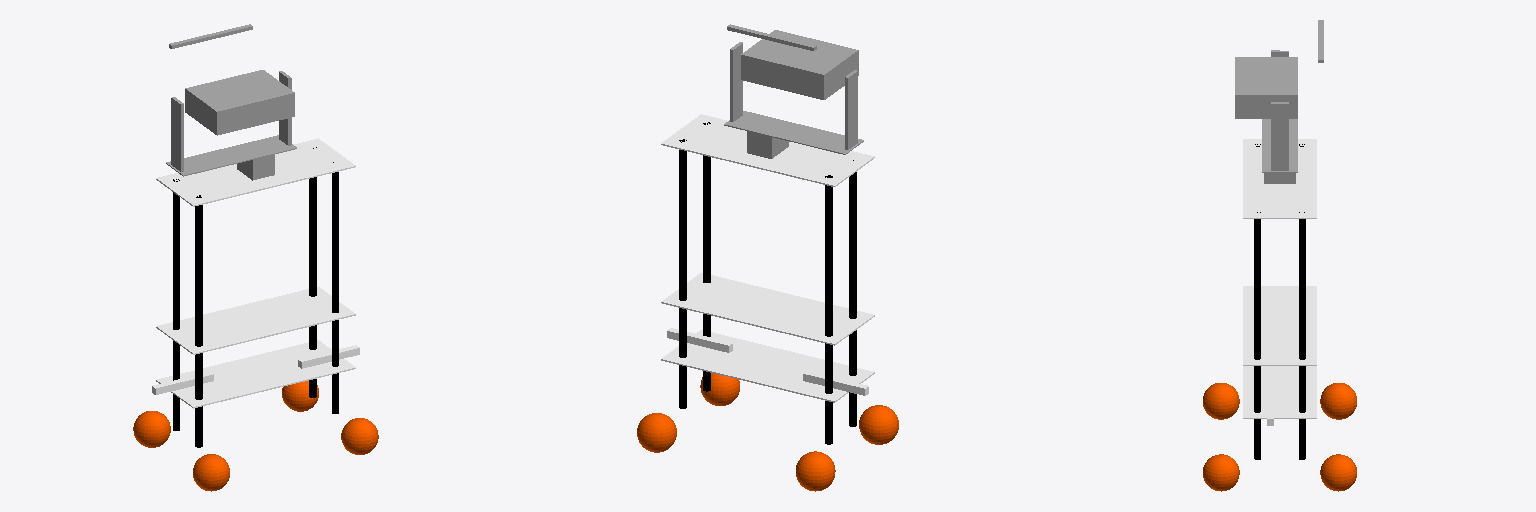
--- What the picture shows (computed from the rendered views, not written in the file) ---
3 views of the same robot in one strip: view 1: azimuth 30°, elevation 25°; view 2: azimuth 150°, elevation 25°; view 3: azimuth 270°, elevation 25° (orthographic).
Robot: ubiquitous_display — 30 links, 29 joints (2 revolute, 8 continuous, 19 fixed); root link base_footprint; default pose: every joint at zero.
Visible links, largest first — view 1: middle_plate_link, ud_pt_projector_link, bottom_plate_link, top_plate_link, top_pillars_link, ud_pt_plate_link, middle_pillars_link, wheel_link_br, wheel_link_bl, wheel_link_fr, bottom_pillars_link, right_pt_pillars (+4 smaller); view 2: middle_plate_link, bottom_plate_link, top_plate_link, ud_pt_projector_link, top_pillars_link, ud_pt_plate_link, middle_pillars_link, wheel_link_br, wheel_link_fl, wheel_link_bl, bottom_pillars_link, right_pt_pillars (+6 smaller); view 3: middle_plate_link, top_plate_link, ud_pt_projector_link, bottom_plate_link, top_pillars_link, left_pt_pillars, wheel_link_bl, wheel_link_br, wheel_link_fl, wheel_link_fr, ud_pt_plate_link, middle_pillars_link (+1 smaller).
Link boxes in pixels (<box>): middle_plate_link: <box>156,287,355,354</box>; ud_pt_projector_link: <box>185,70,294,135</box>; bottom_plate_link: <box>156,340,355,408</box>; top_plate_link: <box>156,138,355,206</box>; top_pillars_link: <box>173,147,338,346</box>; ud_pt_plate_link: <box>166,135,296,176</box>; middle_pillars_link: <box>173,320,338,399</box>; wheel_link_br: <box>193,454,229,491</box>; wheel_link_bl: <box>133,411,170,447</box>; wheel_link_fr: <box>341,418,378,454</box>; bottom_pillars_link: <box>173,373,338,447</box>; right_pt_pillars: <box>171,97,183,171</box>; middle_plate_link: <box>661,273,874,345</box>; bottom_plate_link: <box>661,330,874,402</box>; top_plate_link: <box>661,114,874,186</box>; ud_pt_projector_link: <box>741,30,858,99</box>; top_pillars_link: <box>679,122,856,336</box>; ud_pt_plate_link: <box>724,111,863,154</box>; middle_pillars_link: <box>679,308,856,393</box>; wheel_link_br: <box>859,405,898,444</box>; wheel_link_fl: <box>637,413,676,452</box>; wheel_link_bl: <box>796,451,835,491</box>; bottom_pillars_link: <box>679,365,856,444</box>; right_pt_pillars: <box>845,70,857,149</box>; middle_plate_link: <box>1243,286,1316,365</box>; top_plate_link: <box>1243,139,1316,218</box>; ud_pt_projector_link: <box>1235,57,1297,118</box>; bottom_plate_link: <box>1243,366,1316,418</box>; top_pillars_link: <box>1254,144,1305,359</box>; left_pt_pillars: <box>1271,102,1288,170</box>; wheel_link_bl: <box>1320,383,1356,419</box>; wheel_link_br: <box>1203,383,1239,419</box>; wheel_link_fl: <box>1320,454,1356,491</box>; wheel_link_fr: <box>1203,454,1239,491</box>; ud_pt_plate_link: <box>1262,119,1297,172</box>; middle_pillars_link: <box>1254,366,1305,412</box>.
Bounding box of the posed robot: 0.6 × 0.416 × 1.22 m (x, y, z).
Meshes: 3 distinct files referenced, 0 mesh visuals loaded (none loaded); not drawn: 4 (reference not matched to a file when rendering).

The robot description file, URDF, robot "ubiquitous_display":
<?xml version="1.0" ?>
<!-- =================================================================================== -->
<!-- |    This document was autogenerated by xacro from ubiquitous_display.urdf.xacro  | -->
<!-- |    EDITING THIS FILE BY HAND IS NOT RECOMMENDED                                 | -->
<!-- =================================================================================== -->
<robot name="ubiquitous_display" xmlns:controller="http://playerstage.sourceforge.net/gazebo/xmlschema/#controller" xmlns:interface="http://playerstage.sourceforge.net/gazebo/xmlschema/#interface" xmlns:sensor="http://playerstage.sourceforge.net/gazebo/xmlschema/#sensor" xmlns:xacro="http://www.ros.org/wiki/xacro">
  <!-- Definition of colors -->
  <material name="black">
    <color rgba="0 0 0 1"/>
  </material>
  <material name="white">
    <color rgba="1 1 1 1"/>
  </material>
  <link name="bottom_pillars_link">
    <visual>
      <geometry>
        <cylinder length="0.14" radius="0.01"/>
      </geometry>
      <origin xyz="0.21 0.06 0.07"/>
      <material name="black"/>
    </visual>
    <visual>
      <geometry>
        <cylinder length="0.14" radius="0.01"/>
      </geometry>
      <origin xyz="-0.21 0.06 0.07"/>
      <material name="black"/>
    </visual>
    <visual>
      <geometry>
        <cylinder length="0.14" radius="0.01"/>
      </geometry>
      <origin xyz="0.21 -0.06 0.07"/>
      <material name="black"/>
    </visual>
    <visual>
      <geometry>
        <cylinder length="0.14" radius="0.01"/>
      </geometry>
      <origin xyz="-0.21 -0.06 0.07"/>
      <material name="black"/>
    </visual>
  </link>
  <gazebo reference="bottom_pillars_link">
    <mu1>0.2</mu1>
    <mu2>0.2</mu2>
    <material>Gazebo/Black</material>
  </gazebo>
  <link name="bottom_plate_link">
    <visual>
      <geometry>
        <box size="0.5 0.2 0.004"/>
      </geometry>
      <origin xyz="0 0 -0.002"/>
      <material name="white"/>
    </visual>
  </link>
  <gazebo reference="bottom_plate_link">
    <mu1>0.2</mu1>
    <mu2>0.2</mu2>
    <material>Gazebo/Grey</material>
  </gazebo>
  <joint name="bottom_pillars_to_bottom_plate_joint" type="fixed">
    <parent link="bottom_pillars_link"/>
    <child link="bottom_plate_link"/>
    <origin xyz="0 0 0.14"/>
  </joint>
  <joint name="base_link_to_bottom_pillars_link" type="fixed">
    <origin rpy="0 0 0" xyz="0 0 0"/>
    <parent link="base_link"/>
    <child link="bottom_pillars_link"/>
  </joint>
  <link name="middle_pillars_link">
    <visual>
      <geometry>
        <cylinder length="0.157" radius="0.01"/>
      </geometry>
      <origin xyz="0.21 0.06 0.0785"/>
      <material name="black"/>
    </visual>
    <visual>
      <geometry>
        <cylinder length="0.157" radius="0.01"/>
      </geometry>
      <origin xyz="-0.21 0.06 0.0785"/>
      <material name="black"/>
    </visual>
    <visual>
      <geometry>
        <cylinder length="0.157" radius="0.01"/>
      </geometry>
      <origin xyz="0.21 -0.06 0.0785"/>
      <material name="black"/>
    </visual>
    <visual>
      <geometry>
        <cylinder length="0.157" radius="0.01"/>
      </geometry>
      <origin xyz="-0.21 -0.06 0.0785"/>
      <material name="black"/>
    </visual>
  </link>
  <gazebo reference="middle_pillars_link">
    <mu1>0.2</mu1>
    <mu2>0.2</mu2>
    <material>Gazebo/Black</material>
  </gazebo>
  <link name="middle_plate_link">
    <visual>
      <geometry>
        <box size="0.5 0.2 0.004"/>
      </geometry>
      <origin xyz="0 0 -0.002"/>
      <material name="white"/>
    </visual>
  </link>
  <gazebo reference="middle_plate_link">
    <mu1>0.2</mu1>
    <mu2>0.2</mu2>
    <material>Gazebo/Grey</material>
  </gazebo>
  <joint name="middle_pillars_to_middle_plate_joint" type="fixed">
    <parent link="middle_pillars_link"/>
    <child link="middle_plate_link"/>
    <origin xyz="0 0 0.157"/>
  </joint>
  <joint name="bottom_plate_to_middle_pillars_joint" type="fixed">
    <parent link="bottom_plate_link"/>
    <child link="middle_pillars_link"/>
  </joint>
  <link name="top_pillars_link">
    <visual>
      <geometry>
        <cylinder length="0.435" radius="0.01"/>
      </geometry>
      <origin xyz="0.21 0.06 0.2175"/>
      <material name="black"/>
    </visual>
    <visual>
      <geometry>
        <cylinder length="0.435" radius="0.01"/>
      </geometry>
      <origin xyz="-0.21 0.06 0.2175"/>
      <material name="black"/>
    </visual>
    <visual>
      <geometry>
        <cylinder length="0.435" radius="0.01"/>
      </geometry>
      <origin xyz="0.21 -0.06 0.2175"/>
      <material name="black"/>
    </visual>
    <visual>
      <geometry>
        <cylinder length="0.435" radius="0.01"/>
      </geometry>
      <origin xyz="-0.21 -0.06 0.2175"/>
      <material name="black"/>
    </visual>
  </link>
  <gazebo reference="top_pillars_link">
    <mu1>0.2</mu1>
    <mu2>0.2</mu2>
    <material>Gazebo/Black</material>
  </gazebo>
  <link name="top_plate_link">
    <visual>
      <geometry>
        <box size="0.5 0.2 0.004"/>
      </geometry>
      <origin xyz="0 0 -0.002"/>
      <material name="white"/>
    </visual>
  </link>
  <gazebo reference="top_plate_link">
    <mu1>0.2</mu1>
    <mu2>0.2</mu2>
    <material>Gazebo/Grey</material>
  </gazebo>
  <joint name="top_pillars_to_top_plate_joint" type="fixed">
    <parent link="top_pillars_link"/>
    <child link="top_plate_link"/>
    <origin xyz="0 0 0.435"/>
  </joint>
  <joint name="middle_plate_to_top_pillars_joint" type="fixed">
    <parent link="middle_plate_link"/>
    <child link="top_pillars_link"/>
  </joint>
  <link name="front_laser_adjuster_link">
    <visual>
      <geometry>
        <box size="0.18 0.02 0.02"/>
      </geometry>
      <origin xyz="-0.09 -0.025 0.01"/>
      <material name="white"/>
    </visual>
  </link>
  <gazebo reference="front_laser_adjuster_link">
    <mu1>0.2</mu1>
    <mu2>0.2</mu2>
    <material>Gazebo/White</material>
  </gazebo>
  <joint name="front_laser_adjuster_joint" type="fixed">
    <origin rpy="0 0 0" xyz="0.3 0 0"/>
    <parent link="bottom_plate_link"/>
    <child link="front_laser_adjuster_link"/>
  </joint>
  <link name="rear_laser_adjuster_link">
    <visual>
      <geometry>
        <box size="0.18 0.02 0.02"/>
      </geometry>
      <origin xyz="-0.09 -0.025 0.01"/>
      <material name="white"/>
    </visual>
  </link>
  <gazebo reference="rear_laser_adjuster_link">
    <mu1>0.2</mu1>
    <mu2>0.2</mu2>
    <material>Gazebo/White</material>
  </gazebo>
  <joint name="rear_laser_adjuster_joint" type="fixed">
    <origin rpy="0 0 3.1415" xyz="-0.3 0 0"/>
    <parent link="bottom_plate_link"/>
    <child link="rear_laser_adjuster_link"/>
  </joint>
  <transmission name="trans1">
    <type>transmission_interface/SimpleTransmission</type>
    <joint name="pan_joint">
      <hardwareInterface>hardware_interface/EffortJointInterface</hardwareInterface>
    </joint>
    <actuator name="motor1">
      <hardwareInterface>hardware_interface/EffortJointInterface</hardwareInterface>
      <mechanicalReduction>1</mechanicalReduction>
    </actuator>
  </transmission>
  <transmission name="tran2">
    <type>transmission_interface/SimpleTransmission</type>
    <joint name="tilt_joint">
      <hardwareInterface>hardware_interface/EffortJointInterface</hardwareInterface>
    </joint>
    <actuator name="motor2">
      <hardwareInterface>hardware_interface/EffortJointInterface</hardwareInterface>
      <mechanicalReduction>1</mechanicalReduction>
    </actuator>
  </transmission>
  <gazebo reference="ud_pt_box_link">
    <material>Gazebo/Grey</material>
  </gazebo>
  <gazebo reference="ud_pt_plate_link">
    <mu1>0.2</mu1>
    <mu2>0.2</mu2>
    <material>Gazebo/Grey</material>
  </gazebo>
  <gazebo reference="ud_pt_projector_link">
    <mu1>0.2</mu1>
    <mu2>0.2</mu2>
    <material>Gazebo/Grey</material>
  </gazebo>
  <gazebo reference="left_pt_pillars">
    <mu1>0.2</mu1>
    <mu2>0.2</mu2>
    <material>Gazebo/Grey</material>
  </gazebo>
  <gazebo reference="right_pt_pillars">
    <mu1>0.2</mu1>
    <mu2>0.2</mu2>
    <material>Gazebo/Grey</material>
  </gazebo>
  <material name="red">
    <color rgba="0.7 0.0 0.7 1.0"/>
  </material>
  <material name="blue">
    <color rgba="0.0 0.7 0.7 1.0"/>
  </material>
  <material name="green">
    <color rgba="0.0 0.7 0.7 1.0"/>
  </material>
  <material name="gray">
    <color rgba="0.7 0.7 0.7 1.0"/>
  </material>
  <!--xacro:property name="" value="0.360" /-->
  <material name="Orange">
    <color rgba="1.0 0.4 0.0 1.0"/>
  </material>
  <material name="Grey">
    <color rgba="0.7 0.7 0.7 1.0"/>
  </material>
  <material name="DarkGrey">
    <color rgba="0.3 0.3 0.3 1.0"/>
  </material>
  <material name="White">
    <color rgba="1.0 1.0 1.0 1.0"/>
  </material>
  <material name="Black">
    <color rgba="0.0 0.0 0.0 1.0"/>
  </material>
  <material name="Red">
    <color rgba="1.0 0.0 0.0 1.0"/>
  </material>
  <material name="Green">
    <color rgba="0.0 1.0 0.0 1.0"/>
  </material>
  <material name="Blue">
    <color rgba="0.0 0.0 0.8 1.0"/>
  </material>
  <material name="LightGrey">
    <color rgba="0.82 0.82 0.82 1.0"/>
  </material>
  <!-- controller manager -->
  <!--<xacro:include filename="$(find ubiquitous_display_description)/urdf/youbot/ros_controller.urdf.xacro" />-->
  <!-- Now we can start using the macros xacro:included above to define the actual youbot -->
  <!-- The first use of a macro.  This one was defined in base.urdf.xacro above.
       A macro like this will expand to a set of link and joint definitions, and to additional
       Gazebo-related extensions (sensor plugins, etc).  The macro takes an argument, name,
       that equals "base", and uses it to generate names for its component links and joints
       (e.g., base_link).  The xacro:included origin block is also an argument to the macro.  By convention,
       the origin block defines where the component is w.r.t its parent (in this case the parent
       is the world frame). For more, see http://www.ros.org/wiki/xacro -->
  <link name="base_footprint">
    <inertial>
      <mass value="0.1"/>
      <origin rpy="0 0 0" xyz="0 0 -0.05"/>
      <inertia ixx="1.0" ixy="0.0" ixz="0.0" iyy="1.0" iyz="0.0" izz="1.0"/>
    </inertial>
    <visual>
      <origin rpy="0 0 0" xyz="0 0 0"/>
      <geometry>
        <box size="0.001 0.001 0.001"/>
      </geometry>
      <material name="Red"/>
    </visual>
    <collision>
      <origin rpy="0 0 0" xyz="0 0 -0.05"/>
      <geometry>
        <box size="0.001 0.001 0.001"/>
      </geometry>
    </collision>
  </link>
  <joint name="base_footprint_joint" type="fixed">
    <origin rpy="0 0 0" xyz="0 0 0.08"/>
    <child link="base_link"/>
    <parent link="base_footprint"/>
  </joint>
  <link name="base_link">
    <inertial>
      <mass value="22.0"/>
      <origin xyz="0 0 0"/>
      <inertia ixx="5.652232699207" ixy="-0.009719934438" ixz="1.293988226423" iyy="5.669473158652" iyz="-0.007379583694" izz="3.683196351726"/>
    </inertial>
    <visual>
      <origin rpy="0 0 0" xyz="0 0 0"/>
      <geometry>
        <mesh filename="package://ubiquitous_display_description/meshes/DAE/base.dae"/>
      </geometry>
      <material name="DarkGrey"/>
    </visual>
    <collision>
      <origin rpy="0 0 0" xyz="0 0 0"/>
      <geometry>
        <!--<box size="${base_size_x} ${base_size_y} ${base_size_z}" />-->
        <mesh filename="package://ubiquitous_display_description/meshes/DAE/base_convex.dae"/>
      </geometry>
    </collision>
  </link>
  <!-- front left wheel -->
  <joint name="caster_joint_fl" type="continuous">
    <origin rpy="0 0 0" xyz="0.228 0.158 -0.034"/>
    <axis xyz="0 0 1"/>
    <limit effort="30" velocity="10"/>
    <dynamics damping="1.0" friction="1.0"/>
    <safety_controller k_velocity="10.0"/>
    <parent link="base_link"/>
    <child link="caster_link_fl"/>
  </joint>
  <link name="caster_link_fl">
    <inertial>
      <mass value="0.1"/>
      <origin xyz="0 0 0"/>
      <inertia ixx="0.012411765597" ixy="-0.000711733678" ixz="0.00050272983" iyy="0.015218160428" iyz="-0.000004273467" izz="0.011763977943"/>
    </inertial>
  </link>
  <joint name="wheel_joint_fl" type="continuous">
    <axis xyz="0 1 0"/>
    <limit effort="30" velocity="10"/>
    <origin rpy="0 0 0" xyz="0.0 0.0 0.0"/>
    <parent link="caster_link_fl"/>
    <dynamics damping="1.0" friction="1.0"/>
    <safety_controller k_velocity="10.0"/>
    <child link="wheel_link_fl"/>
  </joint>
  <link name="wheel_link_fl">
    <inertial>
      <mass value="0.4"/>
      <origin xyz="0 0 0"/>
      <inertia ixx="0.012411765597" ixy="-0.000711733678" ixz="0.00050272983" iyy="0.015218160428" iyz="-0.000004273467" izz="0.011763977943"/>
    </inertial>
    <visual>
      <origin rpy="0 0 0" xyz="0 0 0"/>
      <!--<mesh filename="package://youbot_description/meshes/youbot_base/youbot_wheel.stl" />-->
      <geometry>
        <sphere radius="0.05"/>
      </geometry>
      <material name="Orange"/>
    </visual>
    <collision>
      <origin rpy="1.57079632679 0 0" xyz="0 0 0"/>
      <geometry>
        <cylinder length="0.05" radius="0.05"/>
      </geometry>
    </collision>
  </link>
  <!-- front right wheel -->
  <joint name="caster_joint_fr" type="continuous">
    <origin rpy="0 0 0" xyz="0.228 -0.158 -0.034"/>
    <axis xyz="0 0 1"/>
    <limit effort="30" velocity="10"/>
    <dynamics damping="1.0" friction="1.0"/>
    <safety_controller k_velocity="10.0"/>
    <parent link="base_link"/>
    <child link="caster_link_fr"/>
  </joint>
  <link name="caster_link_fr">
    <inertial>
      <mass value="0.1"/>
      <origin xyz="0 0 0"/>
      <inertia ixx="0.012411765597" ixy="-0.000711733678" ixz="0.00050272983" iyy="0.015218160428" iyz="-0.000004273467" izz="0.011763977943"/>
    </inertial>
  </link>
  <joint name="wheel_joint_fr" type="continuous">
    <axis xyz="0 1 0"/>
    <limit effort="30" velocity="10"/>
    <dynamics damping="1.0" friction="1.0"/>
    <safety_controller k_velocity="10.0"/>
    <origin rpy="0 0 0" xyz="0.0 0.0 0.0"/>
    <parent link="caster_link_fr"/>
    <child link="wheel_link_fr"/>
  </joint>
  <link name="wheel_link_fr">
    <inertial>
      <mass value="0.4"/>
      <origin xyz="0 0 0"/>
      <inertia ixx="0.012411765597" ixy="-0.000711733678" ixz="0.00050272983" iyy="0.015218160428" iyz="-0.000004273467" izz="0.011763977943"/>
    </inertial>
    <visual>
      <origin rpy="0 0 0" xyz="0 0 0"/>
      <geometry>
        <!--<mesh filename="package://youbot_description/meshes/youbot_base/youbot_wheel.stl" />-->
        <sphere radius="0.05"/>
      </geometry>
      <material name="Orange"/>
    </visual>
    <collision>
      <origin rpy="1.57079632679 0 0" xyz="0 0 0"/>
      <geometry>
        <cylinder length="0.05" radius="0.05"/>
      </geometry>
    </collision>
  </link>
  <!-- back left wheel -->
  <joint name="caster_joint_bl" type="continuous">
    <origin rpy="0 0 0" xyz="-0.228 0.158 -0.034"/>
    <axis xyz="0 0 1"/>
    <limit effort="30" velocity="10"/>
    <dynamics damping="1.0" friction="1.0"/>
    <safety_controller k_velocity="10.0"/>
    <parent link="base_link"/>
    <child link="caster_link_bl"/>
  </joint>
  <link name="caster_link_bl">
    <inertial>
      <mass value="0.1"/>
      <origin xyz="0 0 0"/>
      <inertia ixx="0.012411765597" ixy="-0.000711733678" ixz="0.00050272983" iyy="0.015218160428" iyz="-0.000004273467" izz="0.011763977943"/>
    </inertial>
  </link>
  <joint name="wheel_joint_bl" type="continuous">
    <axis xyz="0 1 0"/>
    <limit effort="10" velocity="10"/>
    <limit effort="30" velocity="10"/>
    <dynamics damping="1.0" friction="1.0"/>
    <safety_controller k_velocity="10.0"/>
    <origin rpy="0 0 0" xyz="0.0 0.0 0.0"/>
    <parent link="caster_link_bl"/>
    <child link="wheel_link_bl"/>
  </joint>
  <link name="wheel_link_bl">
    <inertial>
      <mass value="0.4"/>
      <origin xyz="0 0 0"/>
      <inertia ixx="0.012411765597" ixy="-0.000711733678" ixz="0.00050272983" iyy="0.015218160428" iyz="-0.000004273467" izz="0.011763977943"/>
    </inertial>
    <visual>
      <origin rpy="0 0 0" xyz="0 0 0"/>
      <geometry>
        <!--<mesh filename="package://youbot_description/meshes/youbot_base/youbot_wheel.stl" />-->
        <sphere radius="0.05"/>
      </geometry>
      <material name="Orange"/>
    </visual>
    <collision>
      <origin rpy="1.57079632679 0 0" xyz="0 0 0"/>
      <geometry>
        <cylinder length="0.05" radius="0.05"/>
      </geometry>
    </collision>
  </link>
  <!-- back right wheel -->
  <joint name="caster_joint_br" type="continuous">
    <origin rpy="0 0 0" xyz="-0.228 -0.158 -0.034"/>
    <axis xyz="0 0 1"/>
    <limit effort="30" velocity="10"/>
    <dynamics damping="1.0" friction="1.0"/>
    <safety_controller k_velocity="10.0"/>
    <parent link="base_link"/>
    <child link="caster_link_br"/>
  </joint>
  <link name="caster_link_br">
    <inertial>
      <mass value="0.1"/>
      <origin xyz="0 0 0"/>
      <inertia ixx="0.012411765597" ixy="-0.000711733678" ixz="0.00050272983" iyy="0.015218160428" iyz="-0.000004273467" izz="0.011763977943"/>
    </inertial>
  </link>
  <joint name="wheel_joint_br" type="continuous">
    <axis xyz="0 1 0"/>
    <limit effort="30" velocity="10"/>
    <dynamics damping="1.0" friction="1.0"/>
    <safety_controller k_velocity="10.0"/>
    <origin rpy="0 0 0" xyz="0.0 0.0 0.0"/>
    <parent link="caster_link_br"/>
    <child link="wheel_link_br"/>
  </joint>
  <link name="wheel_link_br">
    <inertial>
      <mass value="0.4"/>
      <origin xyz="0 0 0"/>
      <inertia ixx="0.012411765597" ixy="-0.000711733678" ixz="0.00050272983" iyy="0.015218160428" iyz="-0.000004273467" izz="0.011763977943"/>
    </inertial>
    <visual>
      <origin rpy="0 0 0" xyz="0 0 0"/>
      <geometry>
        <!--<mesh filename="package://youbot_description/meshes/youbot_base/youbot_wheel.stl" />-->
        <sphere radius="0.05"/>
      </geometry>
      <material name="Orange"/>
    </visual>
    <collision>
      <origin rpy="1.57079632679 0 0" xyz="0 0 0"/>
      <geometry>
        <cylinder length="0.05" radius="0.05"/>
      </geometry>
    </collision>
  </link>
  <gazebo reference="youbot_base">
    <material>Gazebo/DarkGrey</material>
  </gazebo>
  <!-- front left wheel -->
  <gazebo reference="wheel_link_fl">
    <material>Gazebo/Orange</material>
    <kp>1000000</kp>
    <kd>100</kd>
  </gazebo>
  <gazebo reference="caster_link_fl">
    <material>Gazebo/Orange</material>
  </gazebo>
  <!-- front right wheel -->
  <gazebo reference="wheel_link_fr">
    <material>Gazebo/Orange</material>
    <kp>1000000</kp>
    <kd>100</kd>
  </gazebo>
  <gazebo reference="caster_link_fr">
    <material>Gazebo/Orange</material>
  </gazebo>
  <!-- back left wheel -->
  <gazebo reference="wheel_link_bl">
    <material>Gazebo/Orange</material>
    <kp>1000000</kp>
    <kd>100</kd>
  </gazebo>
  <gazebo reference="caster_link_bl">
    <material>Gazebo/Orange</material>
  </gazebo>
  <!-- back right wheel -->
  <gazebo reference="wheel_link_br">
    <material>Gazebo/Orange</material>
    <kp>1000000</kp>
    <kd>100</kd>
  </gazebo>
  <gazebo reference="caster_link_br">
    <material>Gazebo/Orange</material>
  </gazebo>
  <!-- position controller -->
  <gazebo>
    <plugin filename="libgazebo_ros_planar_move.so" name="base_controller">
      <commandTopic>cmd_vel</commandTopic>
      <odometryTopic>odom</odometryTopic>
      <odometryFrame>odom</odometryFrame>
      <odometryRate>100.0</odometryRate>
      <robotBaseFrame>ud_base_footprint</robotBaseFrame>
    </plugin>
  </gazebo>
  <!-- front left wheel -->
  <transmission name="wheel_trans_fl">
    <type>transmission_interface/SimpleTransmission</type>
    <actuator name="wheel_motor_fl">
      <hardwareInterface>hardware_interface/VelocityJointInterface</hardwareInterface>
      <mechanicalReduction>79.2380952381</mechanicalReduction>
    </actuator>
    <joint name="wheel_joint_fl">
      <hardwareInterface>hardware_interface/VelocityJointInterface</hardwareInterface>
    </joint>
  </transmission>
  <transmission name="caster_trans_fl">
    <type>transmission_interface/SimpleTransmission</type>
    <actuator name="caster_motor_fl">
      <hardwareInterface>hardware_interface/VelocityJointInterface</hardwareInterface>
      <mechanicalReduction>79.2380952381</mechanicalReduction>
    </actuator>
    <joint name="caster_joint_fl">
      <hardwareInterface>hardware_interface/VelocityJointInterface</hardwareInterface>
    </joint>
  </transmission>
  <!-- front right wheel -->
  <transmission name="wheel_trans_fr">
    <type>transmission_interface/SimpleTransmission</type>
    <actuator name="wheel_motor_fr">
      <hardwareInterface>hardware_interface/VelocityJointInterface</hardwareInterface>
      <mechanicalReduction>79.2380952381</mechanicalReduction>
    </actuator>
    <joint name="wheel_joint_fr">
      <hardwareInterface>hardware_interface/VelocityJointInterface</hardwareInterface>
    </joint>
  </transmission>
  <transmission name="caster_trans_fr">
    <type>transmission_interface/SimpleTransmission</type>
    <actuator name="caster_motor_fr">
      <hardwareInterface>hardware_interface/VelocityJointInterface</hardwareInterface>
      <mechanicalReduction>79.2380952381</mechanicalReduction>
    </actuator>
    <joint name="caster_joint_fr">
      <hardwareInterface>hardware_interface/VelocityJointInterface</hardwareInterface>
    </joint>
  </transmission>
  <!-- back left wheel -->
  <transmission name="wheel_trans_bl">
    <type>transmission_interface/SimpleTransmission</type>
    <actuator name="wheel_motor_bl">
      <hardwareInterface>hardware_interface/VelocityJointInterface</hardwareInterface>
      <mechanicalReduction>79.2380952381</mechanicalReduction>
    </actuator>
    <joint name="wheel_joint_bl">
      <hardwareInterface>hardware_interface/VelocityJointInterface</hardwareInterface>
    </joint>
  </transmission>
  <transmission name="caster_trans_bl">
    <type>transmission_interface/SimpleTransmission</type>
    <actuator name="caster_motor_bl">
      <hardwareInterface>hardware_interface/VelocityJointInterface</hardwareInterface>
      <mechanicalReduction>79.2380952381</mechanicalReduction>
    </actuator>
    <joint name="caster_joint_bl">
      <hardwareInterface>hardware_interface/VelocityJointInterface</hardwareInterface>
    </joint>
  </transmission>
  <!-- back right wheel -->
  <transmission name="wheel_trans_br">
    <type>transmission_interface/SimpleTransmission</type>
    <actuator name="wheel_motor_br">
      <hardwareInterface>hardware_interface/VelocityJointInterface</hardwareInterface>
      <mechanicalReduction>79.2380952381</mechanicalReduction>
    </actuator>
    <joint name="wheel_joint_br">
      <hardwareInterface>hardware_interface/VelocityJointInterface</hardwareInterface>
    </joint>
  </transmission>
  <transmission name="caster_trans_br">
    <type>transmission_interface/SimpleTransmission</type>
    <actuator name="caster_motor_br">
      <hardwareInterface>hardware_interface/VelocityJointInterface</hardwareInterface>
      <mechanicalReduction>79.2380952381</mechanicalReduction>
    </actuator>
    <joint name="caster_joint_br">
      <hardwareInterface>hardware_interface/VelocityJointInterface</hardwareInterface>
    </joint>
  </transmission>
  <link name="ud_pt_base_link">
    </link>
  <link name="ud_pt_box_link">
    <visual>
      <origin rpy="0 0 0" xyz="0 0 0"/>
      <geometry>
        <box size="0.07 0.085 0.065"/>
      </geometry>
      <material name="gray"/>
    </visual>
    <inertial>
      <origin rpy="0 0 0" xyz="0 0 0.0325"/>
      <mass value="0.28"/>
      <inertia ixx="0.00190" ixy="0.0" ixz="0.0" iyy="0.00202" iyz="0.0" izz="0.00152"/>
    </inertial>
  </link>
  <link name="ud_pt_plate_link">
    <visual>
      <origin rpy="0 0 0" xyz="0.075 0 0"/>
      <geometry>
        <box size="0.35 0.095 0.003"/>
      </geometry>
      <material name="gray"/>
    </visual>
    <inertial>
      <origin rpy="0 0 0" xyz="0 0 0.0015"/>
      <mass value="0.08"/>
      <inertia ixx="0.00150" ixy="0.0" ixz="0.0" iyy="0.02191" iyz="0.0" izz="0.02041"/>
    </inertial>
  </link>
  <link name="left_pt_pillars">
    <visual>
      <origin rpy="0 0 0" xyz="0 0 0"/>
      <geometry>
        <box size="0.01 0.05 0.20"/>
      </geometry>
      <material name="gray"/>
    </visual>
    <inertial>
      <origin rpy="0 0 0" xyz="0 0 0.01"/>
      <mass value="0.06"/>
      <inertia ixx="0.00708" ixy="0.0" ixz="0.0" iyy="0.00043" iyz="0.0" izz="0.00668"/>
    </inertial>
  </link>
  <link name="right_pt_pillars">
    <visual>
      <origin rpy="0 0 0" xyz="0 0 0"/>
      <geometry>
        <box size="0.01 0.05 0.20"/>
      </geometry>
      <material name="gray"/>
    </visual>
    <inertial>
      <origin rpy="0 0 0" xyz="0 0 0.01"/>
      <mass value="0.06"/>
      <inertia ixx="1.0" ixy="0.0" ixz="0.0" iyy="1.0" iyz="0.0" izz="1.0"/>
    </inertial>
  </link>
  <link name="ud_pt_projector_link">
    <visual>
      <origin rpy="0 0 0" xyz="0.07 0.037 0"/>
      <geometry>
        <box size="0.24 0.17 0.07"/>
      </geometry>
      <material name="gray"/>
    </visual>
    <inertial>
      <origin rpy="0 0 0" xyz="0 0 0.035"/>
      <mass value="2"/>
      <inertia ixx="0.00536" ixy="0.0" ixz="0.0" iyy="0.01441" iyz="0.0" izz="0.01041"/>
    </inertial>
  </link>
  <link name="ud_pt_projector_optical_frame"/>
  <joint name="top_plate_link_to_ud_pt_base_link" type="fixed">
    <origin rpy="0 0 3.14" xyz="0 0 0.0325 "/>
    <parent link="top_plate_link"/>
    <child link="ud_pt_base_link"/>
  </joint>
  <joint name="ud_pt_base_joint" type="fixed">
    <parent link="ud_pt_base_link"/>
    <child link="ud_pt_box_link"/>
    <origin rpy="0 0 0" xyz="0 0 0"/>
  </joint>
  <!--name of pan_joint and tilt_joint depend pantilt.yaml-->
  <joint name="pan_joint" type="revolute">
    <parent link="ud_pt_box_link"/>
    <child link="ud_pt_plate_link"/>
    <origin rpy="0 0 0" xyz="0 0 0.0325"/>
    <axis xyz="0 0 1"/>
    <limit effort="41" lower="-2.9670" upper="2.9670" velocity="1"/>
    <!--<safety_controller k_velocity="10" k_position="15" soft_lower_limit="-2.0" soft_upper_limit="0.5" />-->
    <dynamics damping="0.7"/>
  </joint>
  <joint name="ud_pt_plate_link_to_left_pt_pillars" type="fixed">
    <parent link="ud_pt_plate_link"/>
    <child link="left_pt_pillars"/>
    <origin rpy="0 0 0" xyz="-0.09 0 0.1"/>
  </joint>
  <joint name="ud_pt_plate_link_to_right_pt_pillars" type="fixed">
    <parent link="ud_pt_plate_link"/>
    <child link="right_pt_pillars"/>
    <origin rpy="0 0 0" xyz="0.24 0 0.1"/>
  </joint>
  <joint name="tilt_joint" type="revolute">
    <parent link="ud_pt_plate_link"/>
    <child link="ud_pt_projector_link"/>
    <origin rpy="0 0 0" xyz="0 0 0.17"/>
    <axis xyz="1 0 0"/>
    <limit effort="10" lower="-0.2617" upper="1.3" velocity="1"/>
    <!--<safety_controller k_velocity="10" k_position="15" soft_lower_limit="-2.0" soft_upper_limit="0.5" />-->
    <dynamics damping="0.7"/>
  </joint>
  <joint name="ud_pt_projector_link_to_ud_pt_projector_optical_frame" type="fixed">
    <parent link="ud_pt_projector_link"/>
    <child link="ud_pt_projector_optical_frame"/>
    <origin rpy="-1.56 0 3.14" xyz="0 -0.02 0"/>
  </joint>
  <joint name="front_laser_joint" type="fixed">
    <!--xacro:insert_block name="origin" /-->
    <origin rpy="0 0 0" xyz="-0.029 0 0.067"/>
    <parent link="front_laser_adjuster_link"/>
    <child link="front_laser_frame"/>
  </joint>
  <link name="front_laser_frame">
    <inertial>
      <mass value="0.270"/>
      <origin rpy="0 0 0" xyz="0 0 0"/>
      <inertia ixx="2.632e-4" ixy="0" ixz="0" iyy="2.632e-4" iyz="0" izz="1.62e-4"/>
    </inertial>
    <visual>
      <origin rpy="0 0 0" xyz="0 0 0"/>
      <geometry>
        <mesh filename="package://ubiquitous_display_description/meshes/DAE/hokuyo_utm_30lx.dae"/>
      </geometry>
    </visual>
    <collision>
      <origin rpy="0 0 0" xyz="0 0 -0.0115"/>
      <geometry>
        <box size="0.058 0.058 0.087"/>
        <!--<mesh filename="package://hector_sensors_description/meshes/hokuyo_utm30lx/hokuyo_utm_30lx.stl"/>-->
      </geometry>
    </collision>
  </link>
  <gazebo reference="front_laser_frame">
    <sensor name="front_laser" type="ray">
      <always_on>true</always_on>
      <update_rate>40</update_rate>
      <pose>0 0 0 0 0 0</pose>
      <visualize>true</visualize>
      <ray>
        <scan>
          <horizontal>
            <samples>1080</samples>
            <resolution>1</resolution>
            <min_angle>-2.35619449019</min_angle>
            <max_angle>2.35619449019</max_angle>
          </horizontal>
        </scan>
        <range>
          <min>0.2</min>
          <resolution>0.01</resolution>
          <max>30.0</max>
        </range>
        <noise>
          <type>gaussian</type>
          <mean>0.0</mean>
          <stddev>0.004</stddev>
        </noise>
      </ray>
      <plugin filename="libgazebo_ros_laser.so" name="gazebo_ros_front_laser_controller">
        <topicName>front_laser_scan</topicName>
        <frameName>front_laser_frame</frameName>
      </plugin>
    </sensor>
  </gazebo>
  <joint name="rear_laser_joint" type="fixed">
    <!--xacro:insert_block name="origin" /-->
    <origin rpy="0 0 0" xyz="-0.029 0 0.067"/>
    <parent link="rear_laser_adjuster_link"/>
    <child link="rear_laser_frame"/>
  </joint>
  <link name="rear_laser_frame">
    <inertial>
      <mass value="0.270"/>
      <origin rpy="0 0 0" xyz="0 0 0"/>
      <inertia ixx="2.632e-4" ixy="0" ixz="0" iyy="2.632e-4" iyz="0" izz="1.62e-4"/>
    </inertial>
    <visual>
      <origin rpy="0 0 0" xyz="0 0 0"/>
      <geometry>
        <mesh filename="package://ubiquitous_display_description/meshes/DAE/hokuyo_utm_30lx.dae"/>
      </geometry>
    </visual>
    <collision>
      <origin rpy="0 0 0" xyz="0 0 -0.0115"/>
      <geometry>
        <box size="0.058 0.058 0.087"/>
        <!--<mesh filename="package://hector_sensors_description/meshes/hokuyo_utm30lx/hokuyo_utm_30lx.stl"/>-->
      </geometry>
    </collision>
  </link>
  <gazebo reference="rear_laser_frame">
    <sensor name="rear_laser" type="ray">
      <always_on>true</always_on>
      <update_rate>40</update_rate>
      <pose>0 0 0 0 0 0</pose>
      <visualize>true</visualize>
      <ray>
        <scan>
          <horizontal>
            <samples>1080</samples>
            <resolution>1</resolution>
            <min_angle>-2.35619449019</min_angle>
            <max_angle>2.35619449019</max_angle>
          </horizontal>
        </scan>
        <range>
          <min>0.2</min>
          <resolution>0.01</resolution>
          <max>30.0</max>
        </range>
        <noise>
          <type>gaussian</type>
          <mean>0.0</mean>
          <stddev>0.004</stddev>
        </noise>
      </ray>
      <plugin filename="libgazebo_ros_laser.so" name="gazebo_ros_rear_laser_controller">
        <topicName>rear_laser_scan</topicName>
        <frameName>rear_laser_frame</frameName>
      </plugin>
    </sensor>
  </gazebo>
  <link name="kinect2_plate_link">
    <visual>
      <origin rpy="0 0 0" xyz="0 0 0"/>
      <geometry>
        <box size="0.25 0.015 0.01"/>
      </geometry>
      <material name="gray"/>
    </visual>
  </link>
  <joint name="ud_pt_projector_link_to_kinect2_plate_link" type="fixed">
    <origin rpy="0 0 3.14" xyz="0.075 -0.11 0.135"/>
    <parent link="ud_pt_projector_link"/>
    <child link="kinect2_plate_link"/>
  </joint>
  <link name="kinect2_rgb_optical_frame">
    <collision>
      <origin rpy="0 0 0" xyz="-1.56 0 0"/>
      <geometry>
        <box size="0.25 0.065 0.068"/>
      </geometry>
    </collision>
    <visual>
      <origin rpy="-1.56 0 0" xyz="0 0 0"/>
      <geometry>
        <!-- these meshes were exported in mm, so scale back to m -->
        <mesh filename="package://ubiquitous_display_description/meshes/STL/kinect2_origin_on_rgb_optical_frame.stl" scale="0.001 0.001 0.001"/>
        <!--box size="0.25 0.07 0.6" /-->
      </geometry>
      <material name="black"/>
    </visual>
    <inertial>
      <mass value="0.2"/>
      <origin rpy="0 0 0" xyz="-1.56 0 0"/>
      <inertia ixx="0.00147" ixy="0" ixz="0" iyy="0.01112" iyz="0" izz="0.01118"/>
    </inertial>
  </link>
  <link name="kinect2_ir_optical_frame">
    <visual>
      <origin rpy="0 0 0" xyz="0 0 0"/>
      <geometry>
        <sphere radius="0.0005"/>
      </geometry>
      <material name="black"/>
    </visual>
  </link>
  <joint name="kinect2_plate_to_kinect2_rgb_optical_frame" type="fixed">
    <origin rpy="-1.56 0 0" xyz="0.095 0 0.035 "/>
    <parent link="kinect2_plate_link"/>
    <child link="kinect2_rgb_optical_frame"/>
  </joint>
  <joint name="kinect2_rgb_optical_frame_to_kinect2_ir_optical_frame" type="fixed">
    <origin rpy="0 0 0" xyz="-0.0425 0 0 "/>
    <parent link="kinect2_rgb_optical_frame"/>
    <child link="kinect2_ir_optical_frame"/>
  </joint>
  <gazebo reference="kinect2_ir_optical_frame">
    <sensor name="kinect2_ir_sensor" type="depth">
      <always_on>true</always_on>
      <update_rate>1.0</update_rate>
      <camera>
        <horizontal_fov>0.994837673637</horizontal_fov>
        <image>
          <format>L8</format>
          <width>640</width>
          <height>480</height>
        </image>
        <clip>
          <near>0.02</near>
          <far>300</far>
        </clip>
      </camera>
      <plugin filename="libgazebo_ros_openni_kinect.so" name="kinect2_ir_controller">
        <baseline>0.2</baseline>
        <alwaysOn>true</alwaysOn>
        <updateRate>1.0</updateRate>
        <cameraName>ir_ir</cameraName>
        <imageTopicName>/ir/depth/image_raw</imageTopicName>
        <cameraInfoTopicName>/ir/depth/camera_info</cameraInfoTopicName>
        <depthImageTopicName>/ir/depth/image_raw</depthImageTopicName>
        <depthImageCameraInfoTopicName>/ir/depth/camera_info</depthImageCameraInfoTopicName>
        <pointCloudTopicName>/ir/depth/points</pointCloudTopicName>
        <frameName>kinect2_ir_optical_frame</frameName>
        <pointCloudCutoff>0.5</pointCloudCutoff>
        <distortionK1>0.00000001</distortionK1>
        <distortionK2>0.00000001</distortionK2>
        <distortionK3>0.00000001</distortionK3>
        <distortionT1>0.00000001</distortionT1>
        <distortionT2>0.00000001</distortionT2>
        <CxPrime>0</CxPrime>
        <Cx>0</Cx>
        <Cy>0</Cy>
        <focalLength>0</focalLength>
        <hackBaseline>0</hackBaseline>
      </plugin>
    </sensor>
    <material value="Gazebo/Black"/>
  </gazebo>
  <gazebo reference="kinect2_rgb_optical_frame">
    <sensor name="kinect2_rgb_sensor" type="depth">
      <always_on>true</always_on>
      <update_rate>1.0</update_rate>
      <camera>
        <horizontal_fov>0.994837673637</horizontal_fov>
        <image>
          <format>R8G8B8</format>
          <width>640</width>
          <height>480</height>
        </image>
        <clip>
          <near>0.02</near>
          <far>300</far>
        </clip>
      </camera>
      <plugin filename="libgazebo_ros_openni_kinect.so" name="kinect2_rgb_controller">
        <alwaysOn>true</alwaysOn>
        <updateRate>1.0</updateRate>
        <cameraName>rgb_rgb</cameraName>
        <imageTopicName>/rgb/rgb/image_raw</imageTopicName>
        <cameraInfoTopicName>/rgb/rgb/camera_info</cameraInfoTopicName>
        <depthImageTopicName>/rgb/depth/image_raw</depthImageTopicName>
        <depthImageCameraInfoTopicName>/rgb/depth/camera_info</depthImageCameraInfoTopicName>
        <pointCloudTopicName>/rgb/depth_registered/points</pointCloudTopicName>
        <frameName>kinect2_rgb_optical_frame</frameName>
        <pointCloudCutoff>0.5</pointCloudCutoff>
        <distortionK1>0.00000001</distortionK1>
        <distortionK2>0.00000001</distortionK2>
        <distortionK3>0.00000001</distortionK3>
        <distortionT1>0.00000001</distortionT1>
        <distortionT2>0.00000001</distortionT2>
        <CxPrime>0</CxPrime>
        <Cx>0</Cx>
        <Cy>0</Cy>
        <focalLength>0</focalLength>
        <hackBaseline>0</hackBaseline>
      </plugin>
    </sensor>
    <material value="Gazebo/Black"/>
  </gazebo>
  <!-- =============== Gazebo =============== -->
  <gazebo>
    <plugin filename="libgazebo_ros_control.so" name="gazebo_ros_control">
      <robotNamespace>/ubiquitous_display</robotNamespace>
      <robotSimType>gazebo_ros_control/DefaultRobotHWSim</robotSimType>
      <legacyModeNS>true</legacyModeNS>
    </plugin>
  </gazebo>
</robot>
